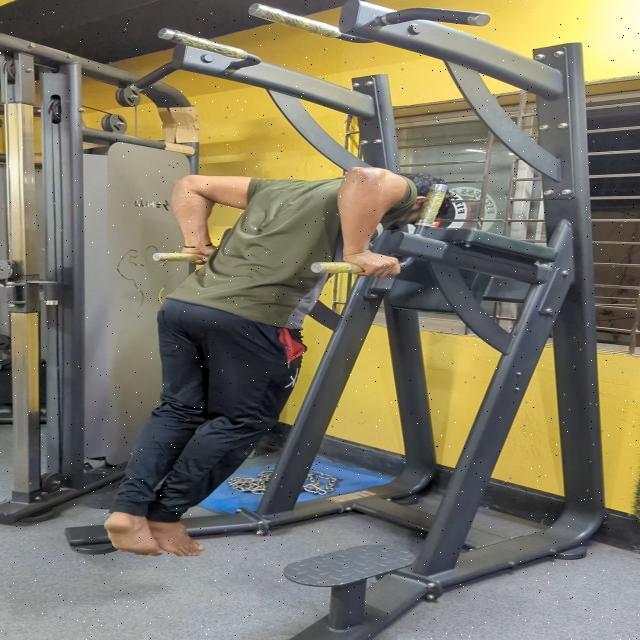Normal_Dips: (0, 107, 545, 573)
